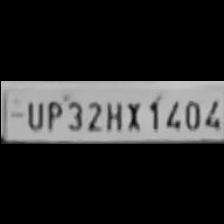0: (181, 95, 199, 129)
1: (144, 94, 160, 130)
2: (82, 96, 102, 132)
3: (64, 96, 82, 130)
4: (202, 94, 222, 130), (162, 94, 180, 130)
H: (102, 96, 120, 130)
P: (42, 96, 62, 130)
U: (22, 97, 44, 129)
X: (120, 96, 142, 130)
